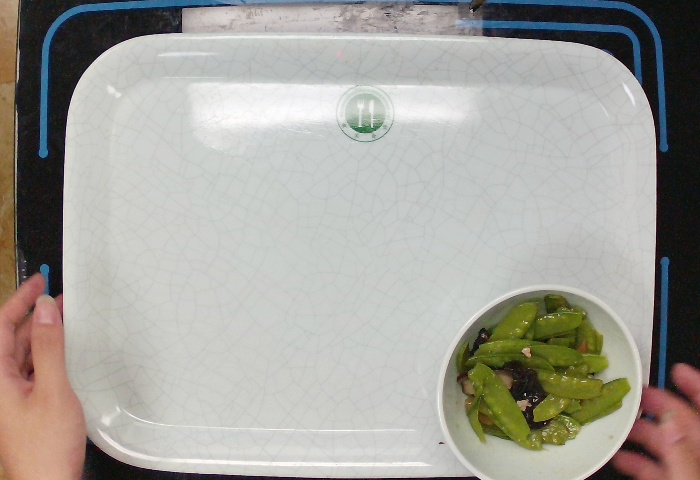JYsf-Fan_Wan: (441, 284, 653, 480)
